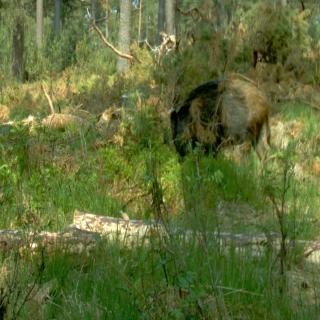Pig: (163, 68, 285, 162)
